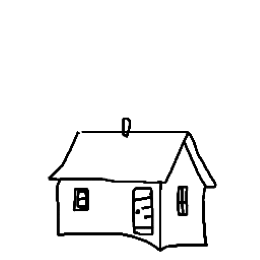bottom_placed_house: (3, 2, 257, 257)
chimney: (110, 110, 136, 140)
closed_window: (67, 184, 94, 220), (174, 183, 189, 223)
door: (127, 178, 155, 240)
roof: (46, 119, 225, 189)
small_house: (0, 0, 260, 260)
wall: (51, 171, 168, 256)
